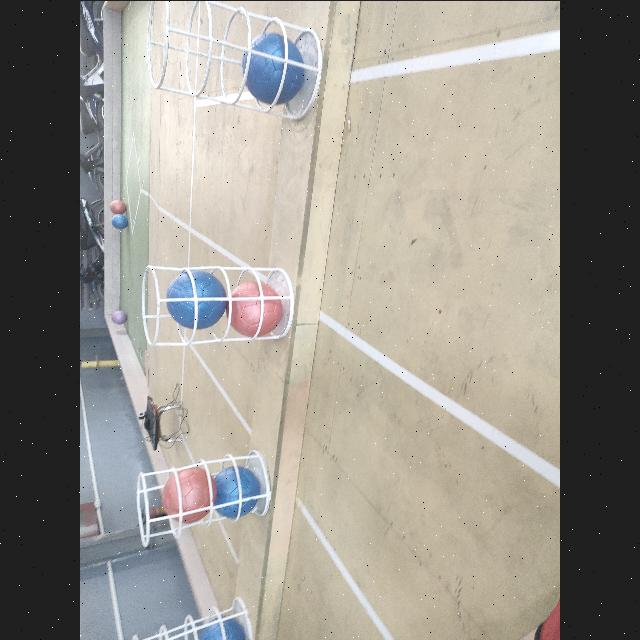B: (242, 32, 306, 104), (166, 270, 227, 330), (212, 466, 260, 516), (200, 616, 247, 640), (112, 214, 128, 228)
R: (162, 466, 215, 524), (228, 282, 282, 336), (110, 200, 126, 212)
